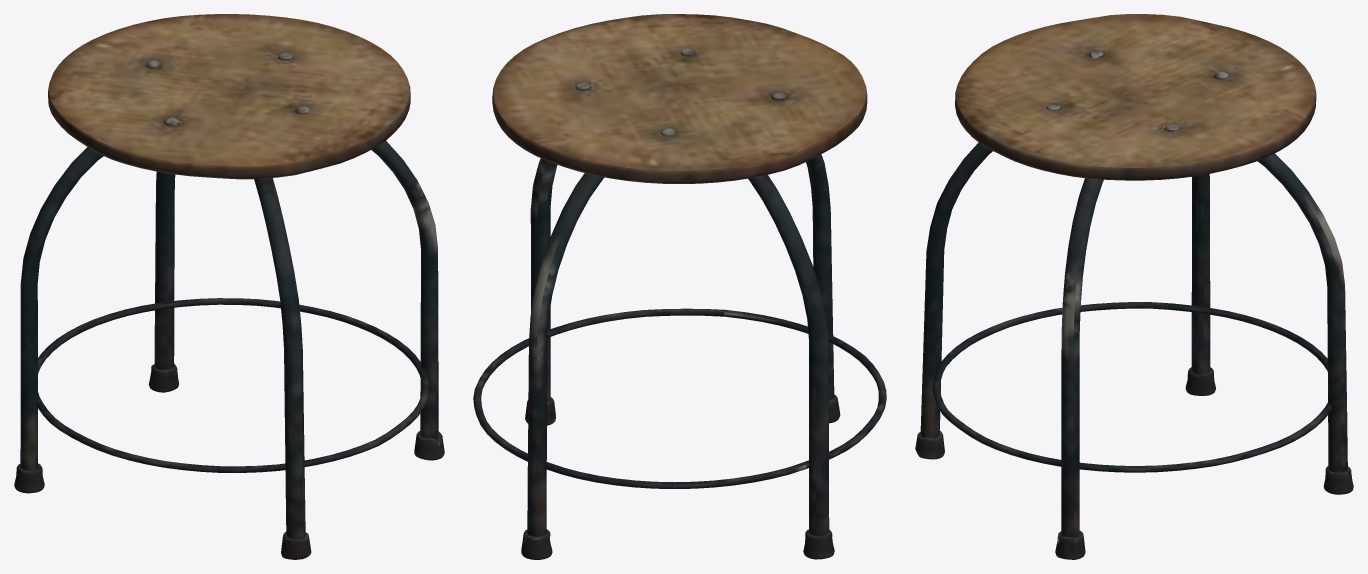
The model's file is stool.glb.
3 renders of one model, left to right at view 1: azimuth 30°, elevation 25°; view 2: azimuth 150°, elevation 25°; view 3: azimuth 270°, elevation 25°, orthographic. The views are drawn at different scales.
Visible parts, largest first — view 1: stool; view 2: stool; view 3: stool.
Part boxes in pixels (<box>): stool: <box>14,14,444,559</box>; stool: <box>473,14,886,559</box>; stool: <box>915,14,1353,559</box>.
Bounding box in the file's own units: 0.4499 × 0.46 × 0.475.
Materials: 1 (1 with a texture image).
